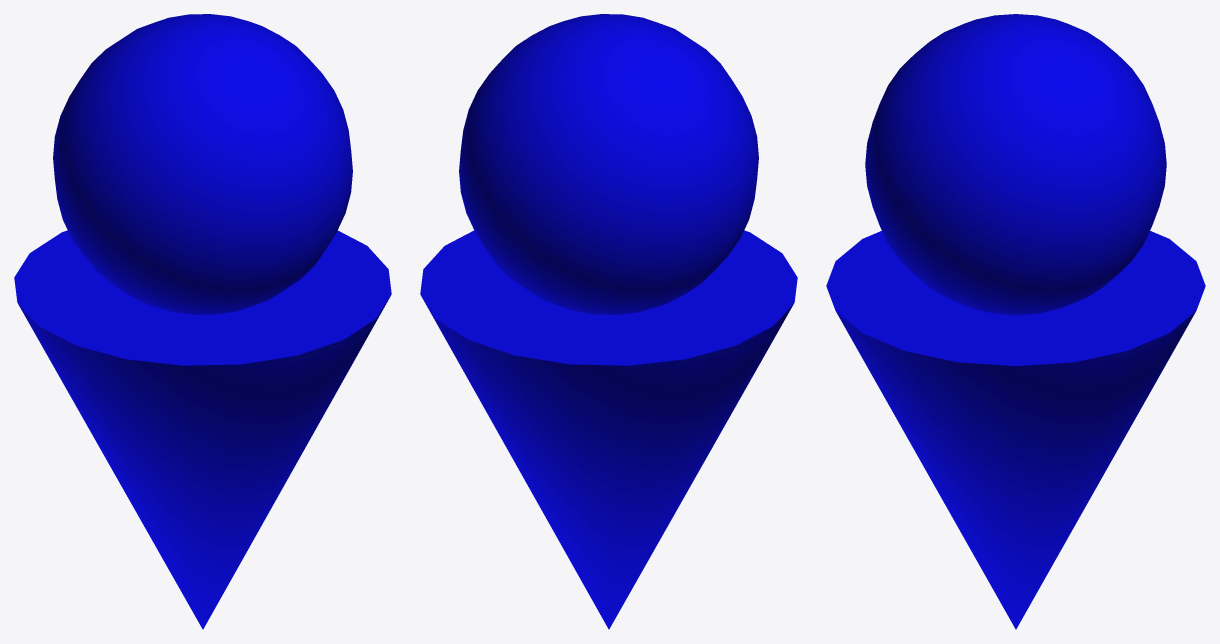
The model's file is player2.fbx.
3 renders of one model, left to right at view 1: azimuth 30°, elevation 25°; view 2: azimuth 150°, elevation 25°; view 3: azimuth 270°, elevation 25°, orthographic.
Parts seen in each view (by area): view 1: pSphere2; view 2: pSphere2; view 3: pSphere2.
Boxes of the visible parts, x1,y1,x2,y2 form: pSphere2: (14, 14, 391, 629); pSphere2: (420, 14, 797, 629); pSphere2: (826, 14, 1205, 629).
Bounding box in the file's own units: 1.47 × 2.58 × 1.47.
